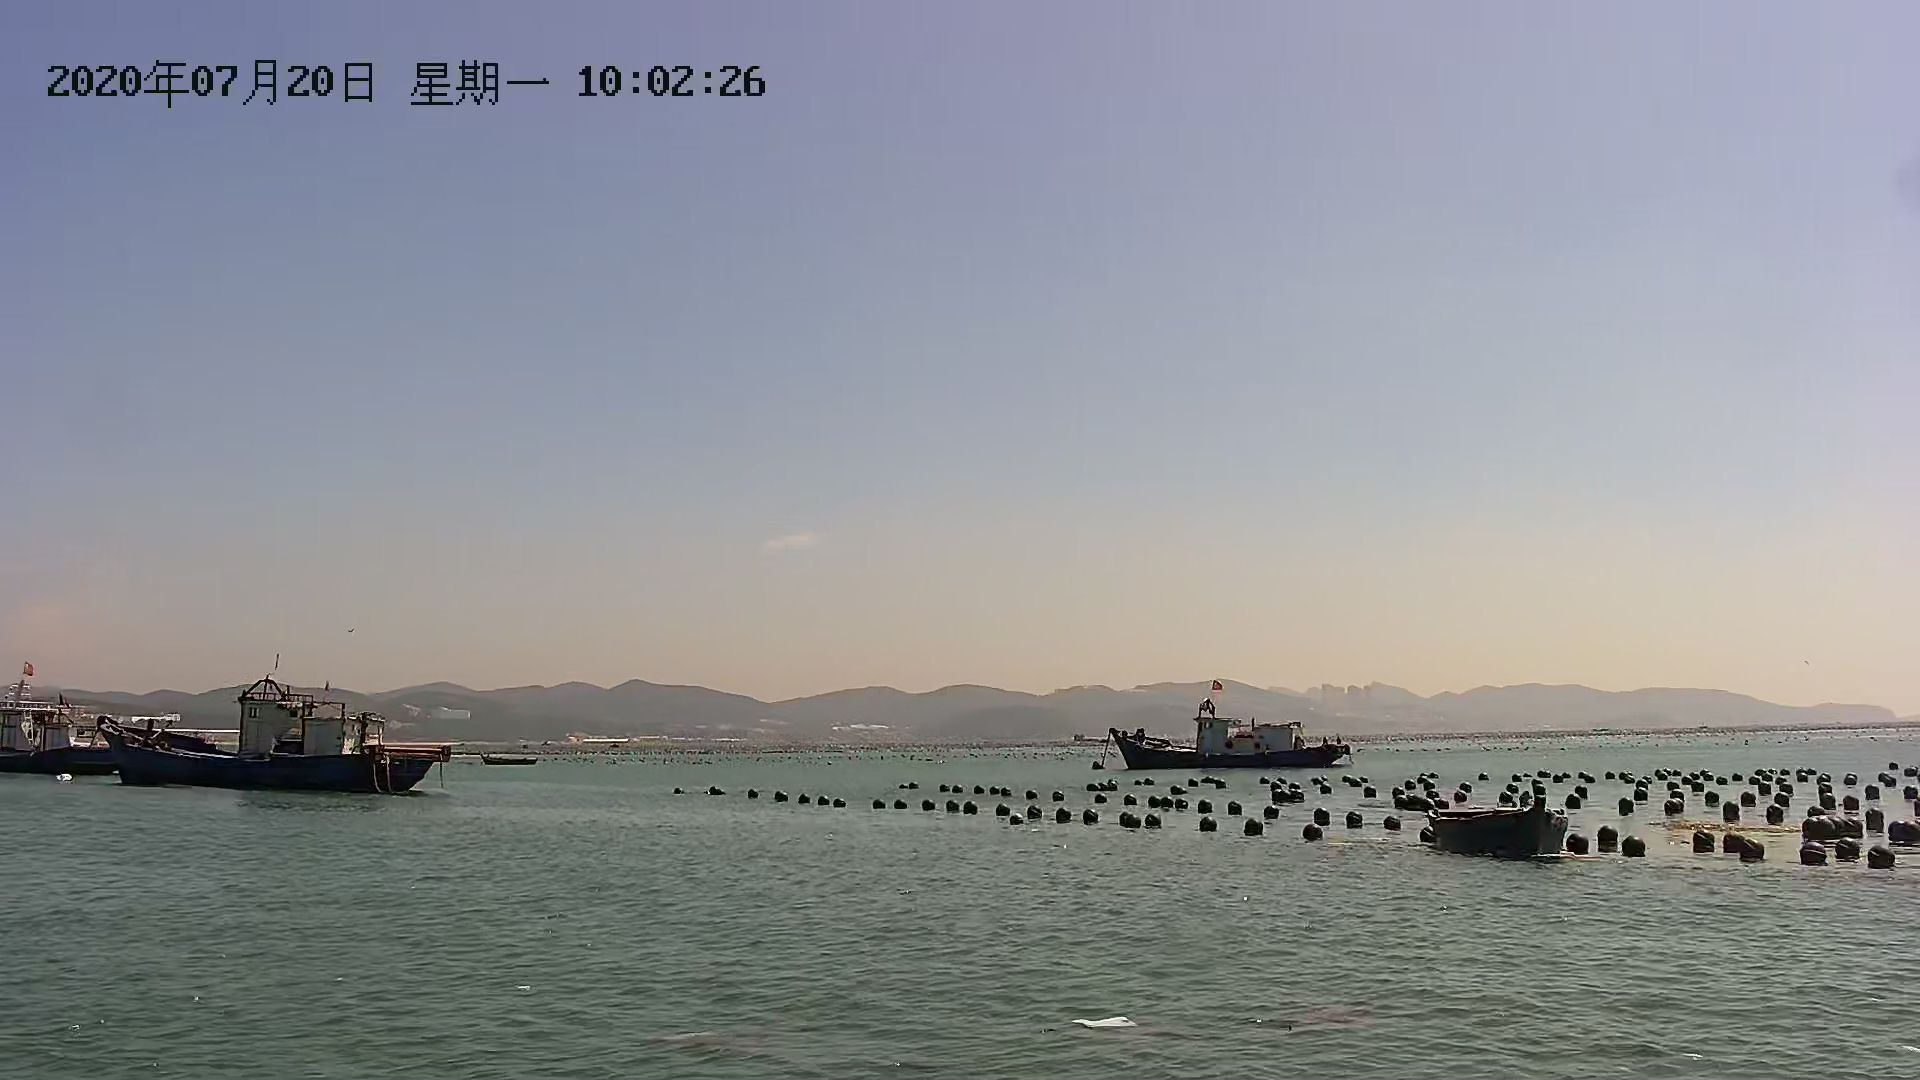ball: (1618, 831, 1647, 861), (1803, 841, 1832, 869), (1688, 825, 1716, 855), (1867, 845, 1894, 874), (1596, 822, 1623, 848), (1737, 839, 1763, 865), (1833, 836, 1859, 862), (1298, 820, 1327, 843), (1240, 818, 1269, 836), (1145, 810, 1166, 832), (1196, 815, 1218, 833)
boat: (1433, 795, 1575, 866)
ship: (117, 680, 448, 798), (1104, 702, 1342, 773), (1, 691, 160, 779)
